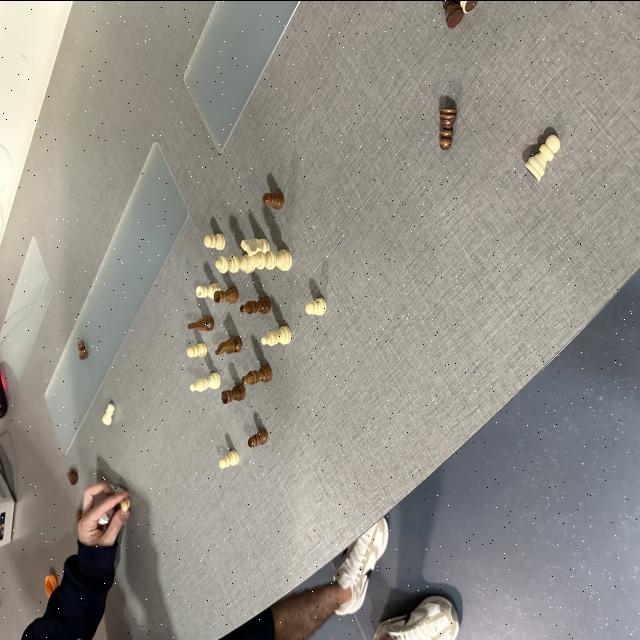Black-Bishop: (242, 363, 272, 384), (240, 295, 272, 314)
Black-Knight: (215, 334, 243, 354), (188, 314, 215, 330)
Black-Pawn: (248, 427, 268, 447), (262, 191, 284, 209), (78, 338, 86, 351)
Black-Rook: (221, 382, 246, 402), (214, 285, 239, 303)
White-Bishop: (260, 325, 292, 345), (190, 371, 220, 391)
White-King: (250, 248, 292, 270)
White-Knight: (240, 238, 270, 255)
White-Pawn: (219, 448, 239, 468), (304, 296, 326, 314), (204, 233, 226, 249), (187, 341, 207, 357), (102, 402, 115, 424)
White-Queen: (215, 252, 255, 272)
White-Rook: (196, 282, 216, 298)
